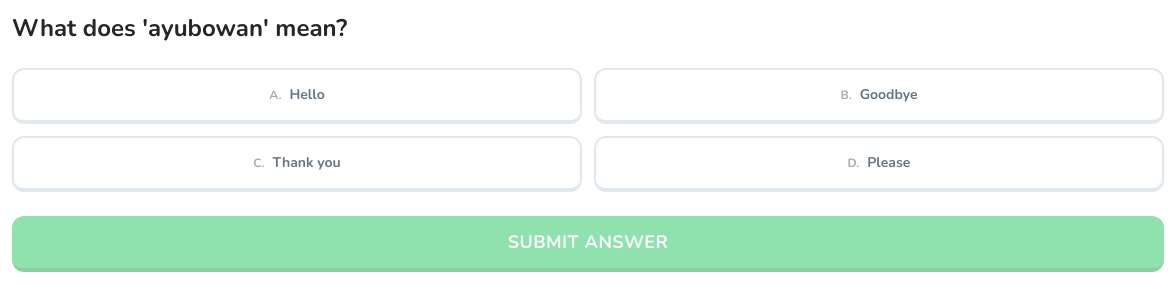
Test: QuizCard › MCQ questions › selects an option on click
What coordinates should you click on to do the following:
click the button "A. Hello"
I would click on:
 (297, 96)
Its box is [12, 68, 582, 124].
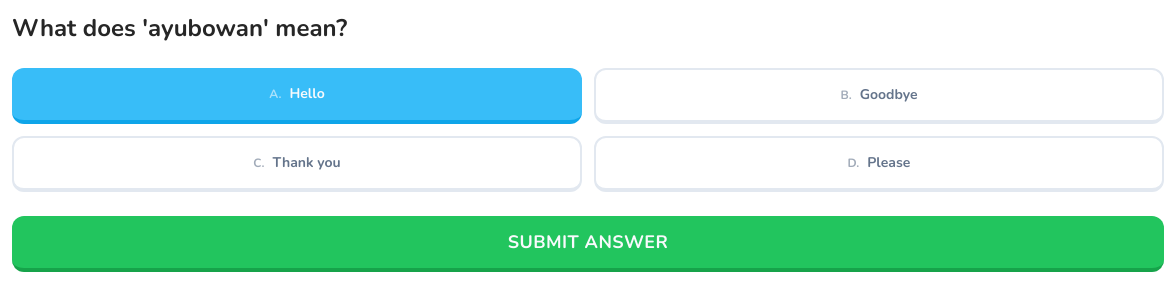
Now the button "Submit Answer" is enabled, box [12, 216, 1164, 272]
